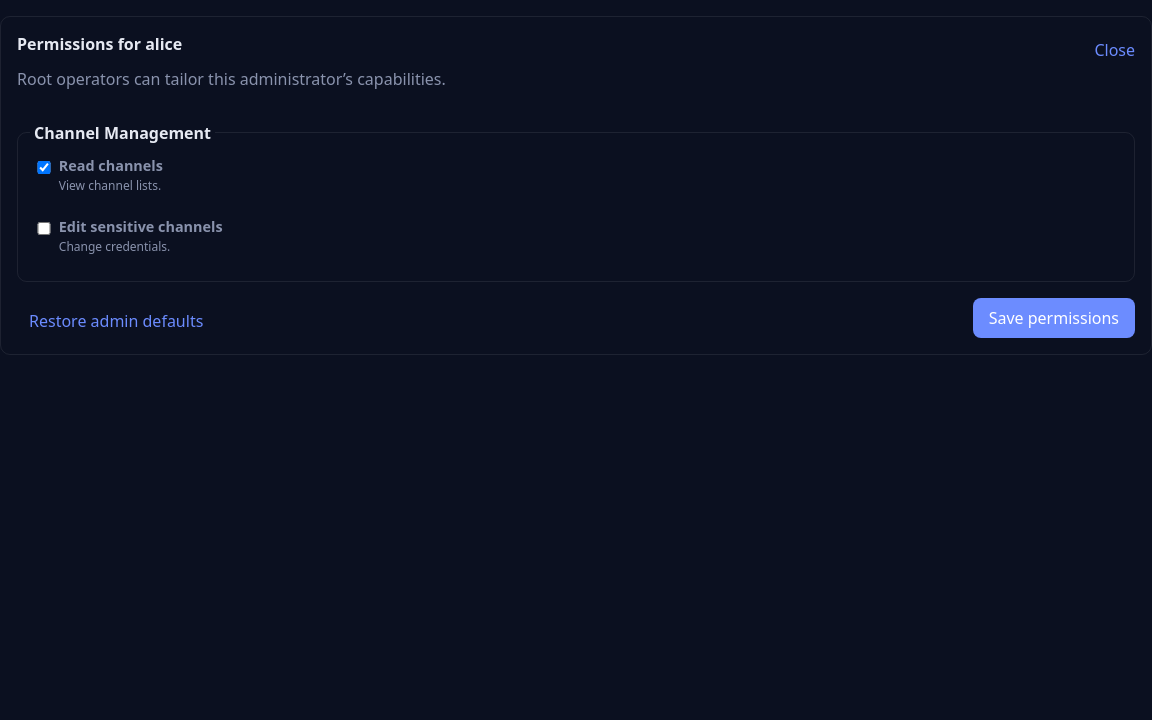
Test: UserPermissionDialog › loads the root-only matrix, confirms changes, and saves a complete matrix
The width and height of the screenshot is (1152, 720).
Click the checkbox labelled "Edit sensitive channels Change credentials." at point(44, 229), box [34, 222, 54, 235]
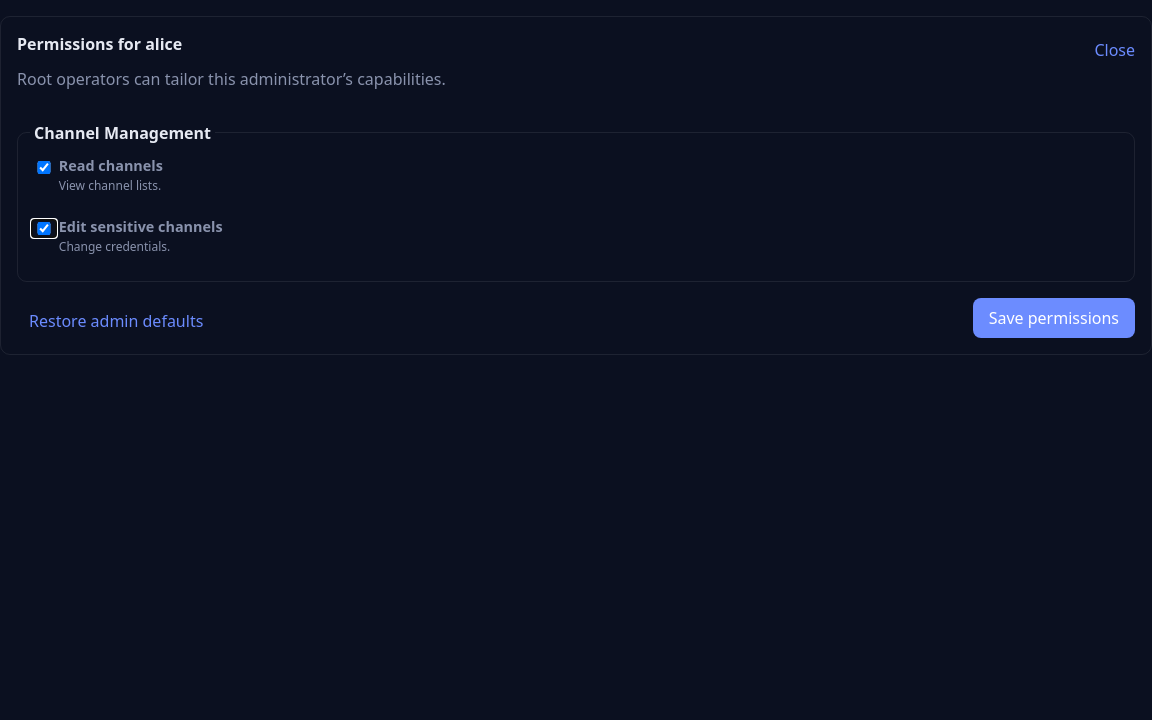
Click the button "Save permissions" at point(1054, 318), box [973, 298, 1135, 338]
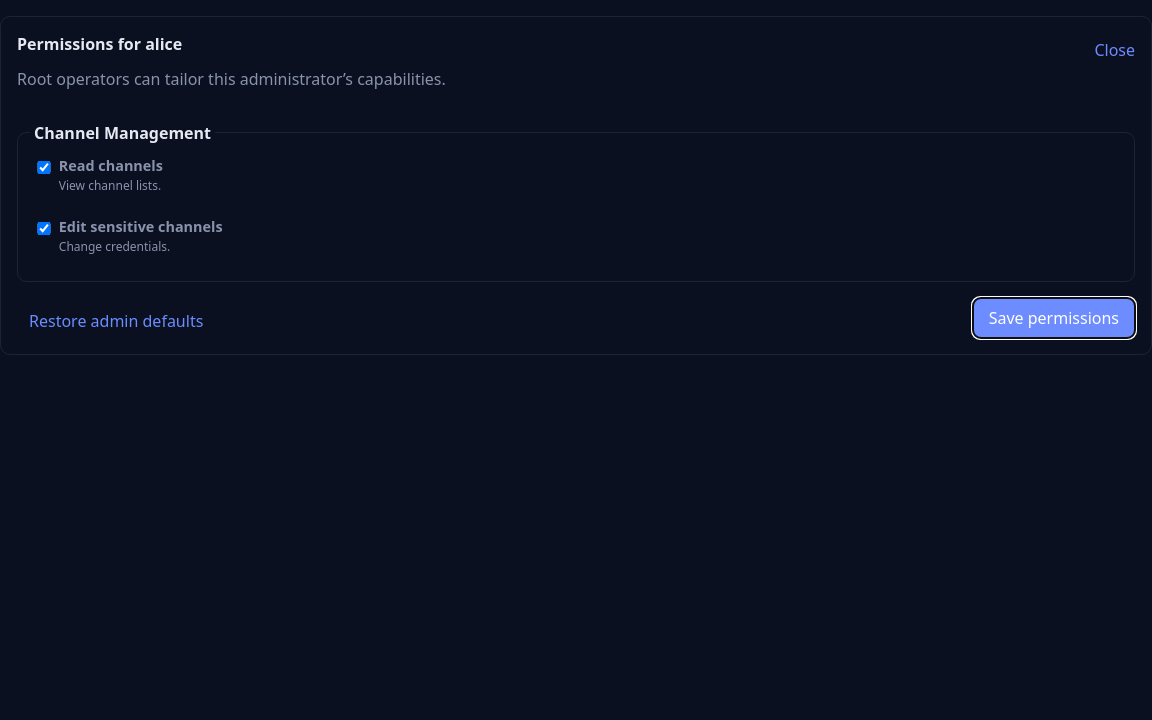
Click the button "Save permissions" at point(1054, 318), box [973, 298, 1135, 338]
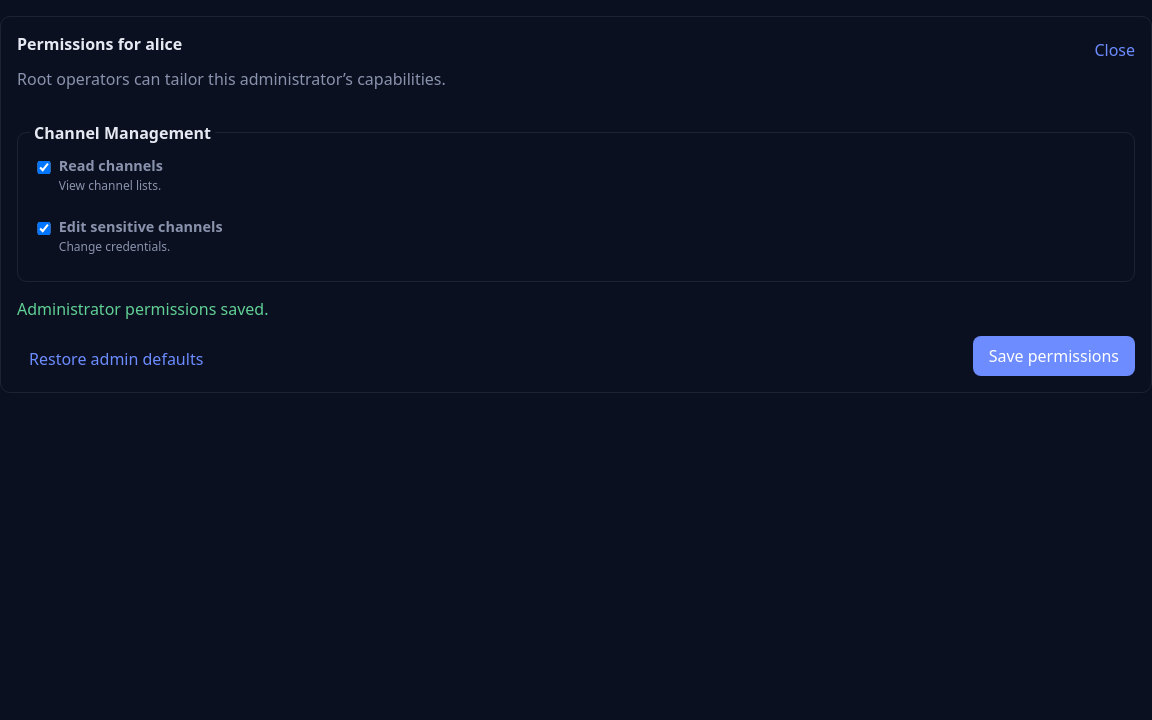
Check: the message reads "Administrator permissions saved.", box [17, 298, 268, 320]
